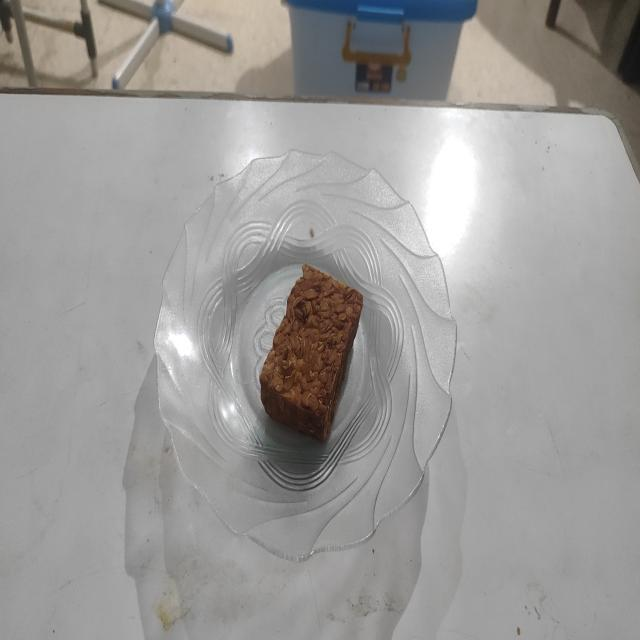tempe_goreng: (260, 264, 363, 442)
